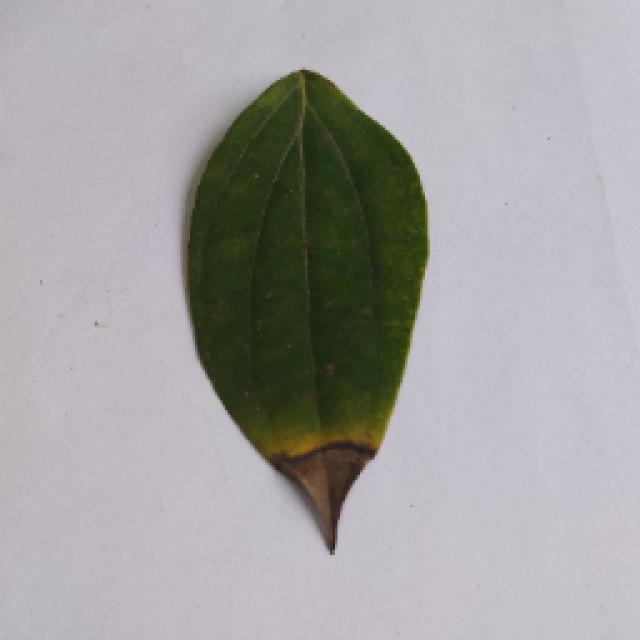footrot: (175, 62, 435, 548)
